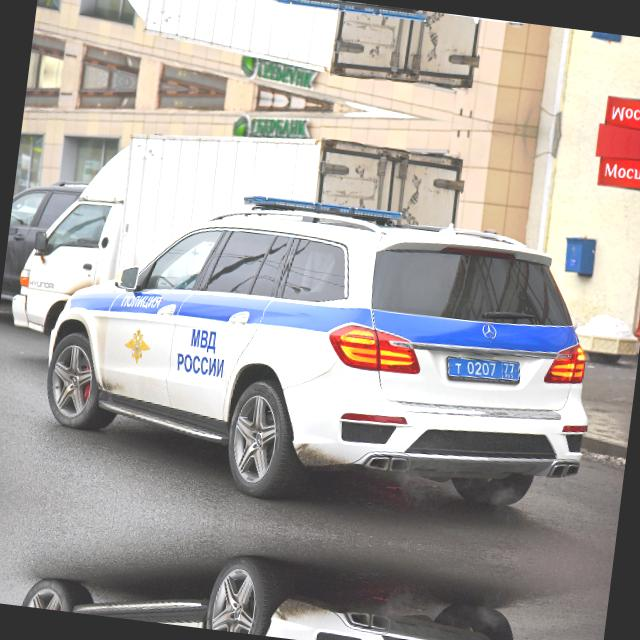police: (440, 347, 525, 389)
